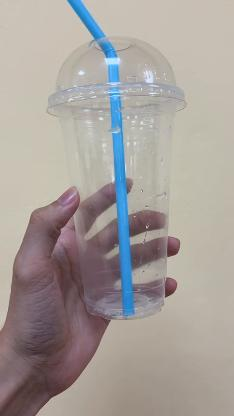Plastic Cup: (47, 35, 187, 318)
